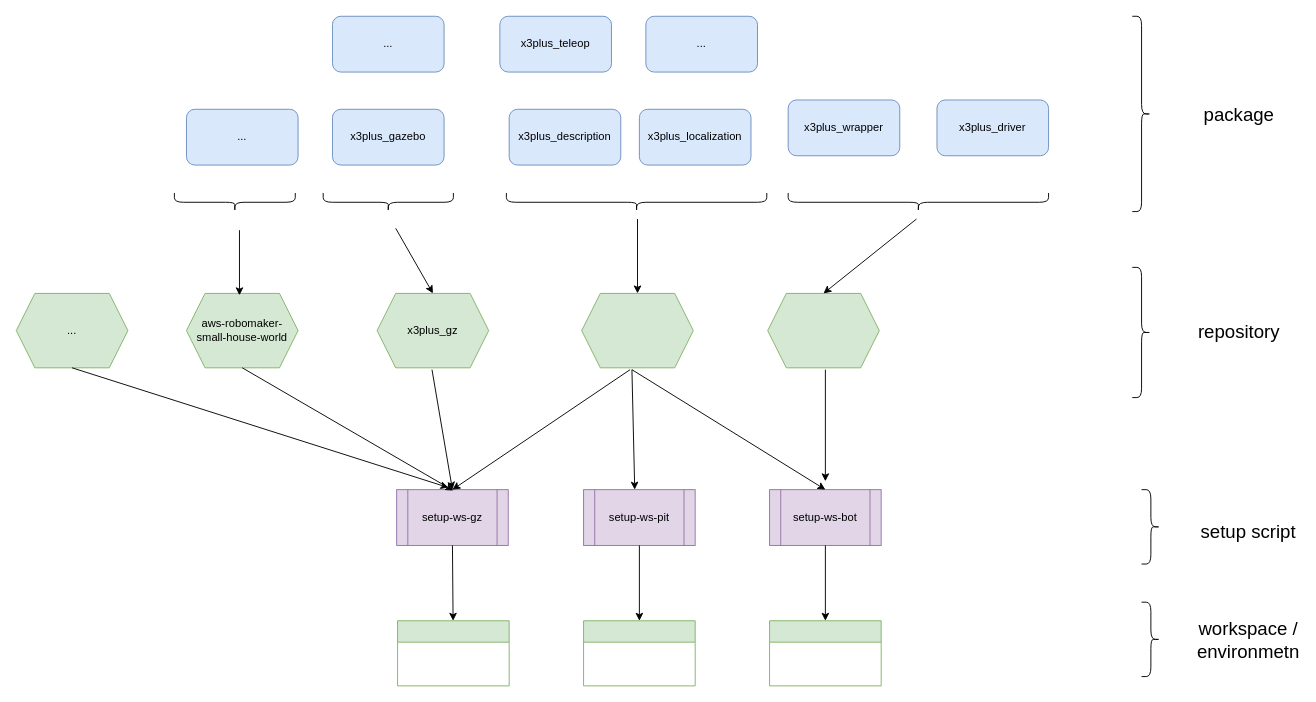
The diagram is 1316 pixels wide and 702 high, and some of its shapes have lost their labels. The box of each missing label's shape, as (x1, y1, x2, y2) in pixels:
development box: (397, 620, 509, 686)
remote cockpit: (583, 620, 695, 686)
robot controller: (769, 620, 881, 686)
x3plus: (581, 292, 693, 368)
x3plus_bot: (767, 292, 879, 368)
